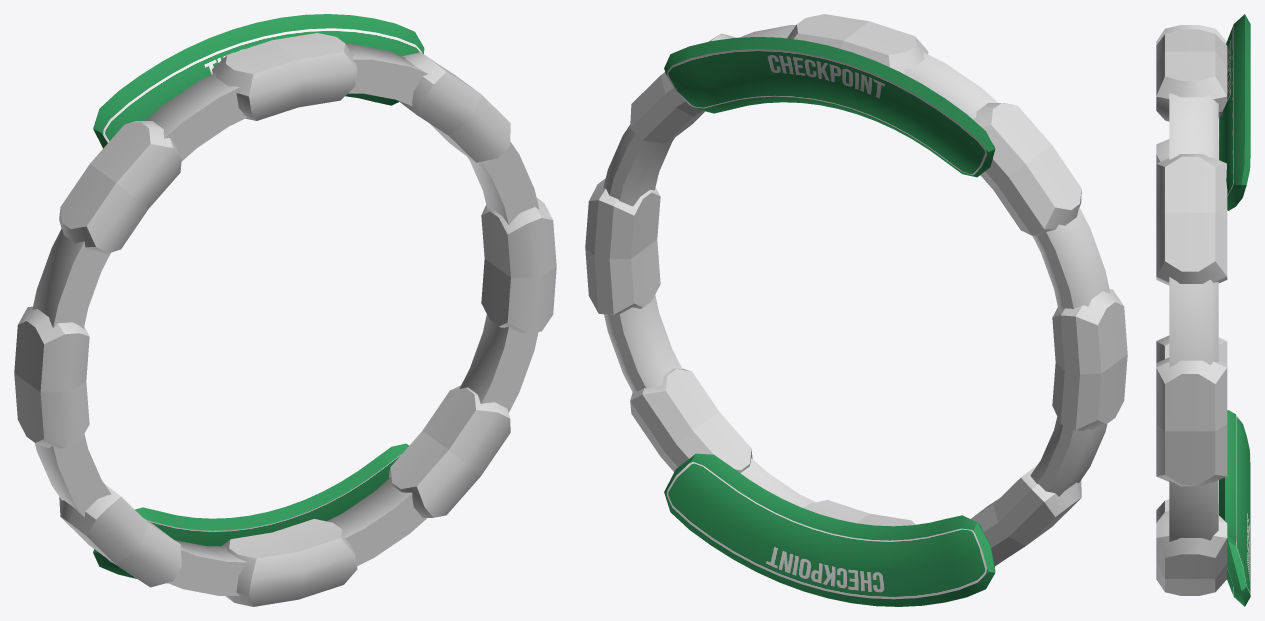
The model's file is checkpointring.fbx.
The picture shows the model from 3 angles, left to right: view 1: azimuth 30°, elevation 25°; view 2: azimuth 150°, elevation 25°; view 3: azimuth 270°, elevation 25°; orthographic projection. The views are drawn at different scales.
Parts seen in each view (by area): view 1: CylinderSegment, Cylinder, CheckpointSign.001; view 2: CylinderSegment, CheckpointSign.001, Cylinder; view 3: CylinderSegment, Cylinder, CheckpointSign.001.
Part boxes in pixels (x1,y1,x2,y2): CylinderSegment: (14,33,556,606); Cylinder: (32,44,539,595); CheckpointSign.001: (93,14,424,583); CylinderSegment: (585,14,1127,566); CheckpointSign.001: (664,37,995,606); Cylinder: (603,25,1110,507); CylinderSegment: (1156,25,1227,595); Cylinder: (1169,93,1218,541); CheckpointSign.001: (1219,14,1250,606).
Size of the model in its own units: 614 by 629 by 102.
